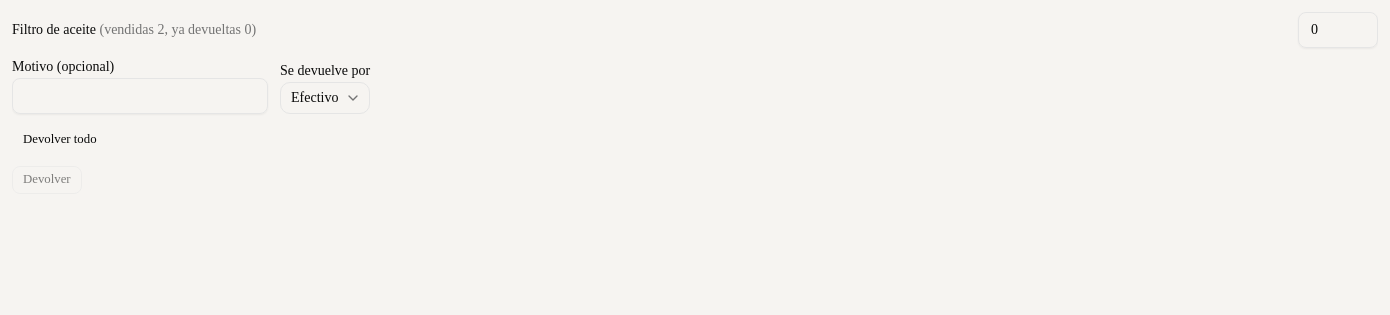
Test: DevolucionForm › en una venta a crédito primero baja la deuda y no sale dinero
Click the button "Devolver todo" at (60, 140), box top-left (12, 126), bottom-right (108, 154)
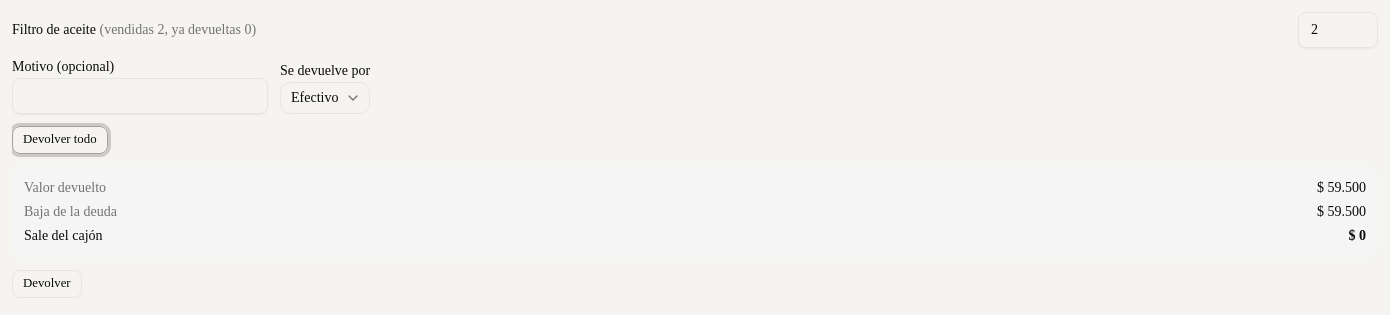
Expected: the number field named "Cantidad a devolver de Filtro de aceite" holds "2", top-left (1298, 12), bottom-right (1378, 48)
Expected: the element with test id "resumen-devolucion" reads "Valor devuelto $ 59.500 Baja de la deuda $ 59.500 Sale del cajón $ 0", top-left (12, 166), bottom-right (1378, 258)
